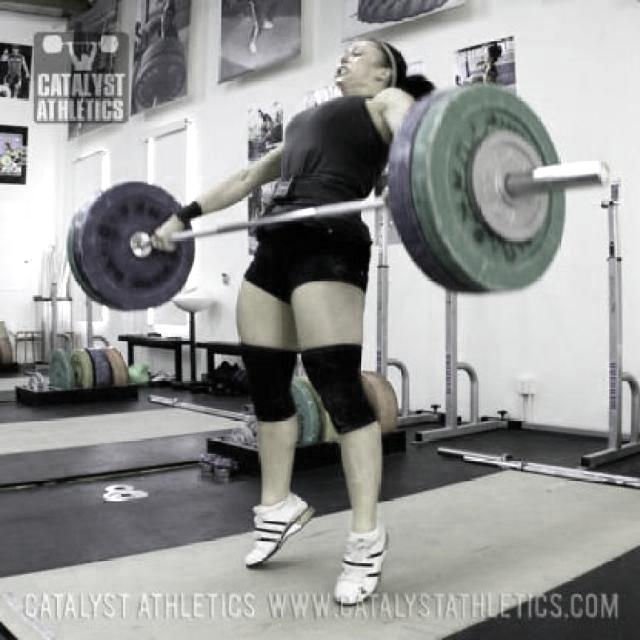barbell: (377, 75, 619, 303)
